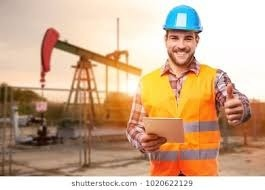helmet: (164, 5, 203, 34)
person with full safety: (131, 4, 237, 177)
safety vest: (139, 68, 220, 176)
